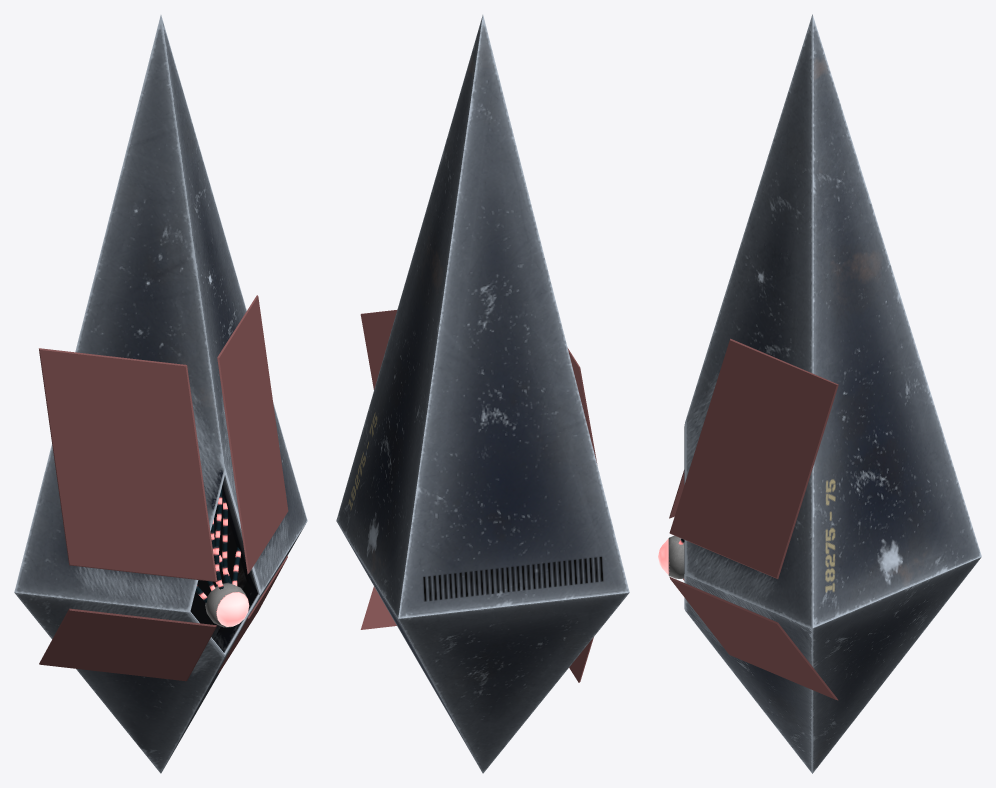
File: alien_beacon.glb
The picture shows the model from 3 angles, left to right: view 1: azimuth 30°, elevation 25°; view 2: azimuth 150°, elevation 25°; view 3: azimuth 270°, elevation 25°; orthographic projection.
Visible parts, largest first — view 1: Cube, Cube.003, Cube.002, Cube.006, Sphere, Cylinder.002, Cube.001; view 2: Cube, Cube.002, Cube.001, Cube.003; view 3: Cube, Cube.002, Cube.001, Sphere.
Boxes of the visible parts, x1=… form: Cube: x1=14, y1=15, x2=307, y2=773; Cube.003: x1=39, y1=348, x2=217, y2=581; Cube.002: x1=217, y1=295, x2=288, y2=574; Cube.006: x1=39, y1=608, x2=217, y2=681; Sphere: x1=205, y1=583, x2=249, y2=627; Cylinder.002: x1=195, y1=488, x2=241, y2=602; Cube.001: x1=217, y1=555, x2=287, y2=673; Cube: x1=336, y1=15, x2=629, y2=773; Cube.002: x1=360, y1=310, x2=397, y2=389; Cube.001: x1=360, y1=586, x2=396, y2=629; Cube.003: x1=567, y1=348, x2=597, y2=463; Cube: x1=684, y1=14, x2=981, y2=773; Cube.002: x1=669, y1=338, x2=838, y2=578; Cube.001: x1=669, y1=576, x2=838, y2=700; Sphere: x1=658, y1=535, x2=684, y2=578.
Bounding box in the file's own units: 283 × 700 × 270.
Materials: 4 (4 with a texture image).
